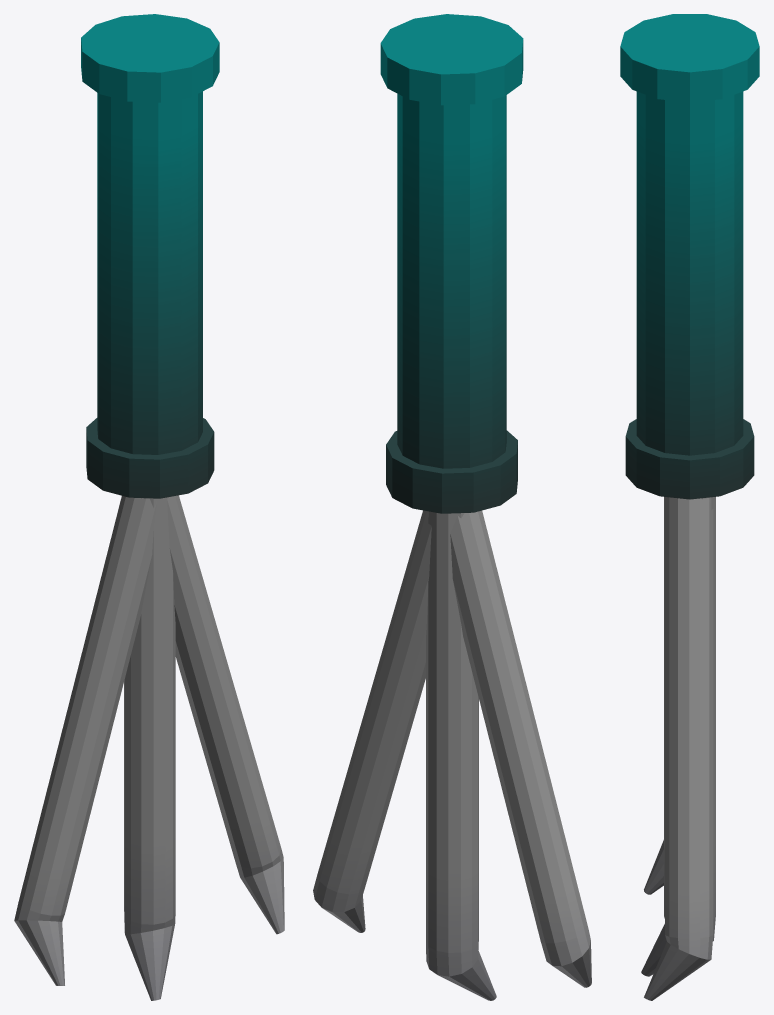
File: palustre.fbx
The picture shows the model from 3 angles, left to right: view 1: azimuth 30°, elevation 25°; view 2: azimuth 150°, elevation 25°; view 3: azimuth 270°, elevation 25°; orthographic projection. The views are drawn at different scales.
Visible parts, largest first — view 1: Cylinder.002; view 2: Cylinder.002; view 3: Cylinder.002.
Part boxes in pixels (x1,y1,x2,y2): Cylinder.002: (14,14,284,1000); Cylinder.002: (313,14,591,1000); Cylinder.002: (620,14,759,1000).
Bounding box in the file's own units: 175 × 596 × 79.95.
Materials: 1 (1 with a texture image).
